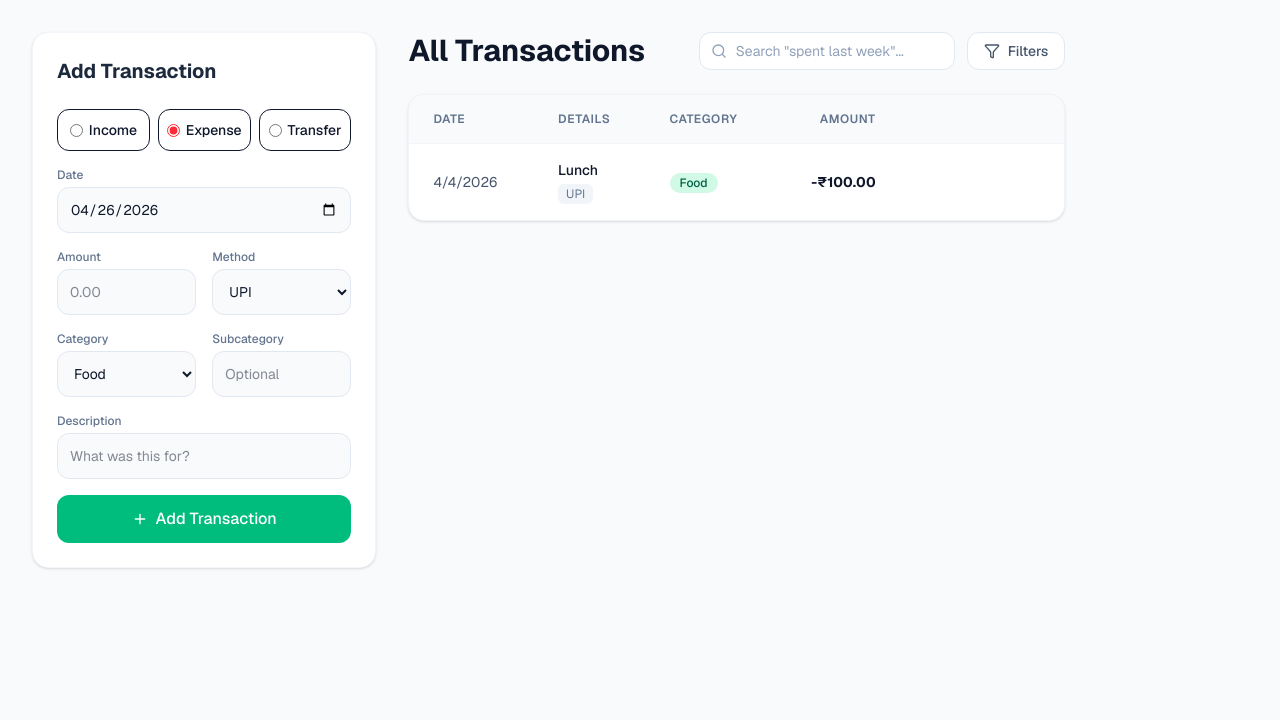
Test: TransactionManager Component › opens and closes manual filters
Click the button "Filters". click: (1016, 51)
box: [967,32,1065,70]
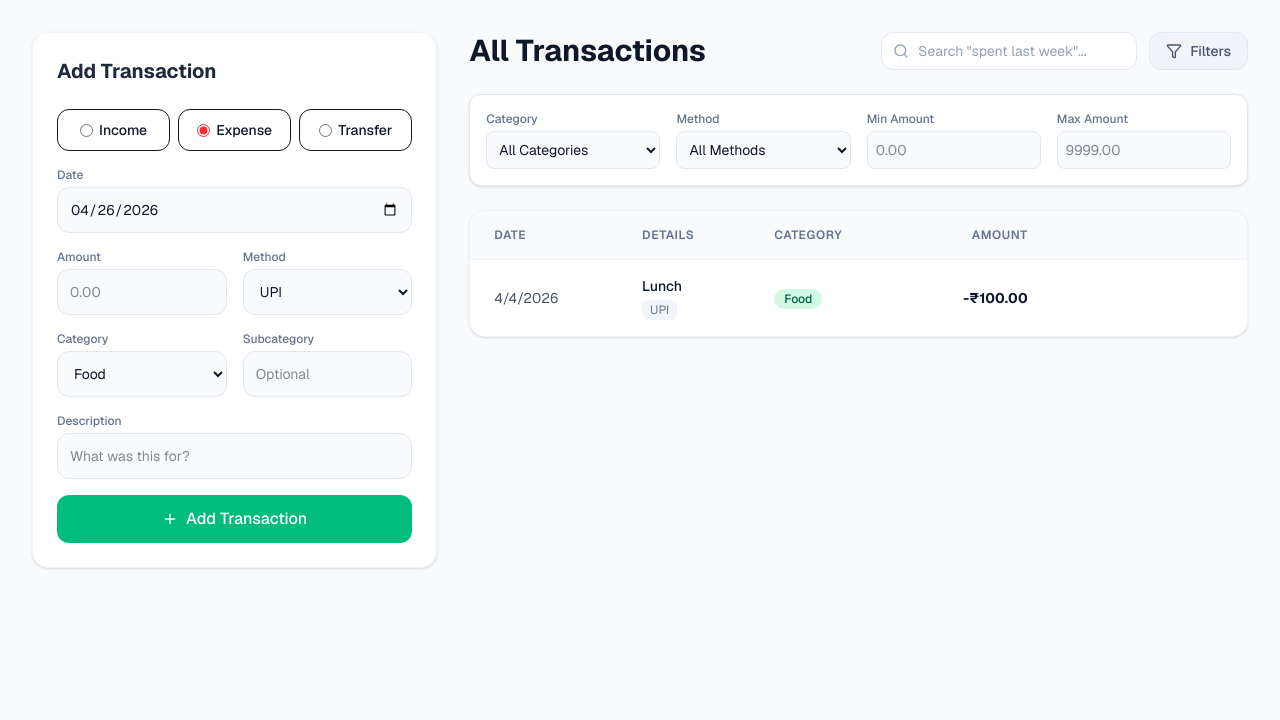
Result: the text "Min Amount" is shown at [867,111,934,127]
Type "500" into the number field with placeholder "0.00" below "Min Amount". click: (954, 150)
box: [867,131,1041,169]
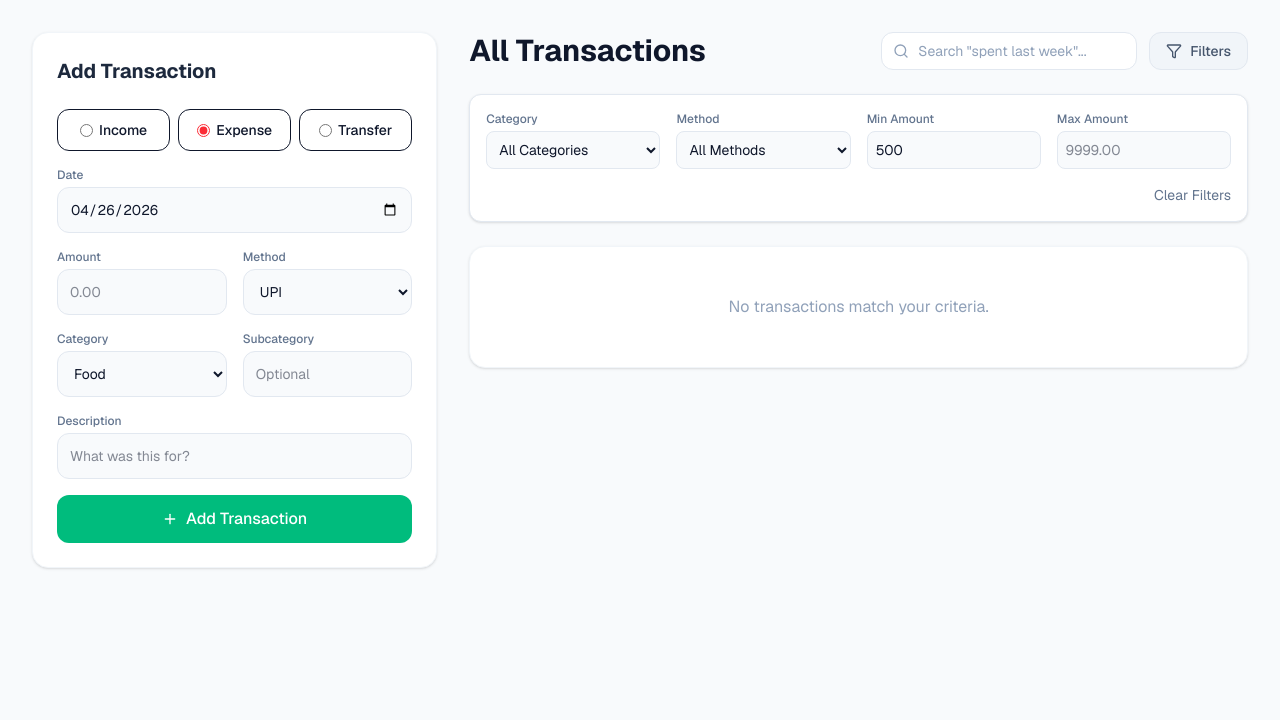
Result: the text "-₹100.00" is gone
Click the button "Clear Filters". click: (1192, 195)
box: [1154,185,1231,205]
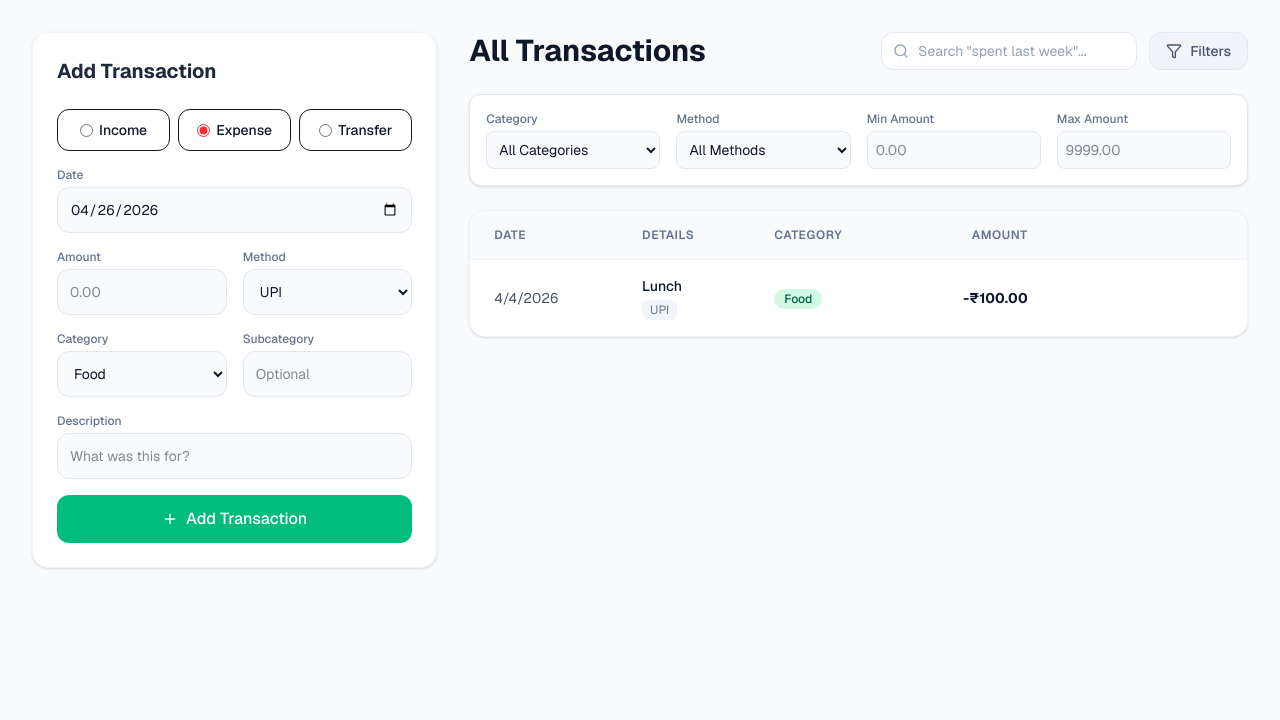
Result: the text "-₹100.00" is shown at [903,260,1052,336]
